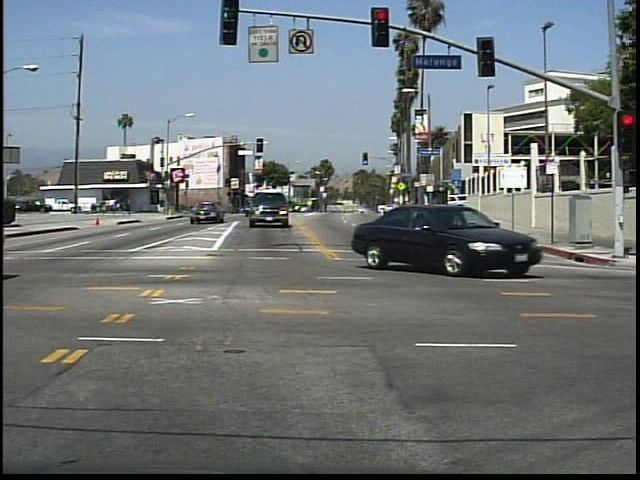person: (125, 195, 136, 219)
